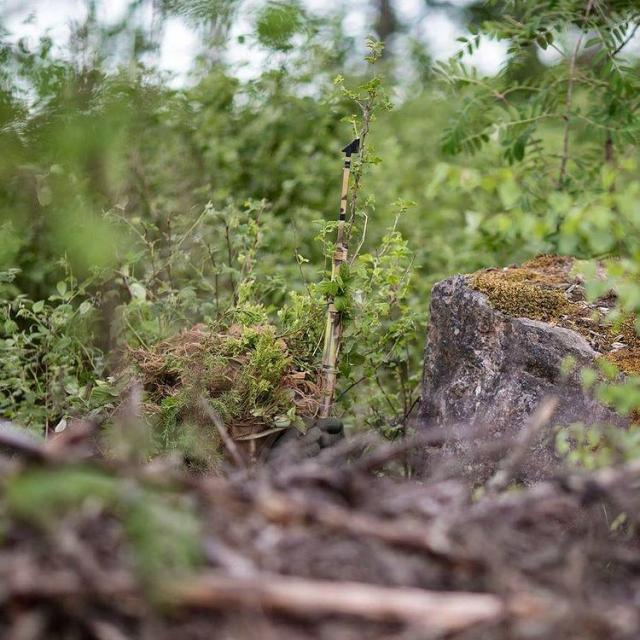Camouflage: (56, 138, 360, 494)
